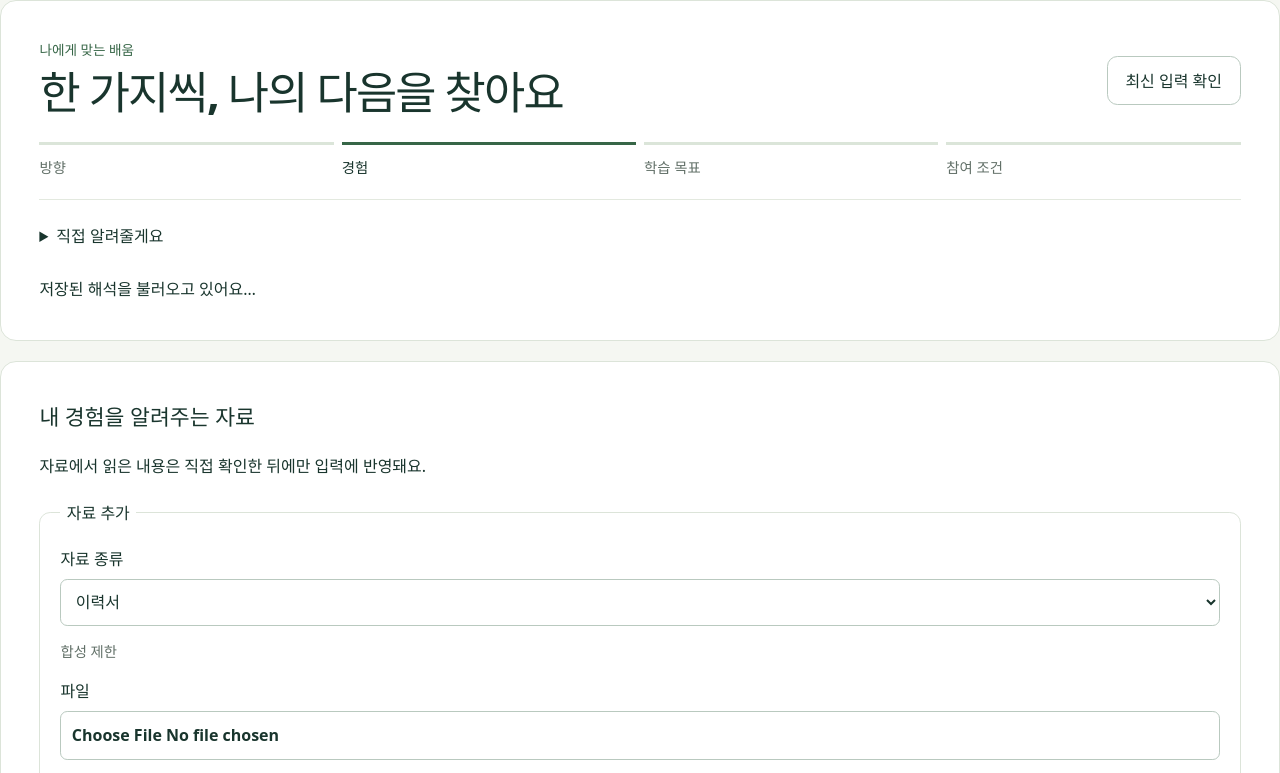
Test case: 해석 제안 확인과 수락·거절 › 새 해석 cancel 후 중단된 저장 해석을 GET으로 다시 불러온다
Click the heading "직접 알려줄게요". click: {"x": 110, "y": 236}
box: [56,225,164,247]
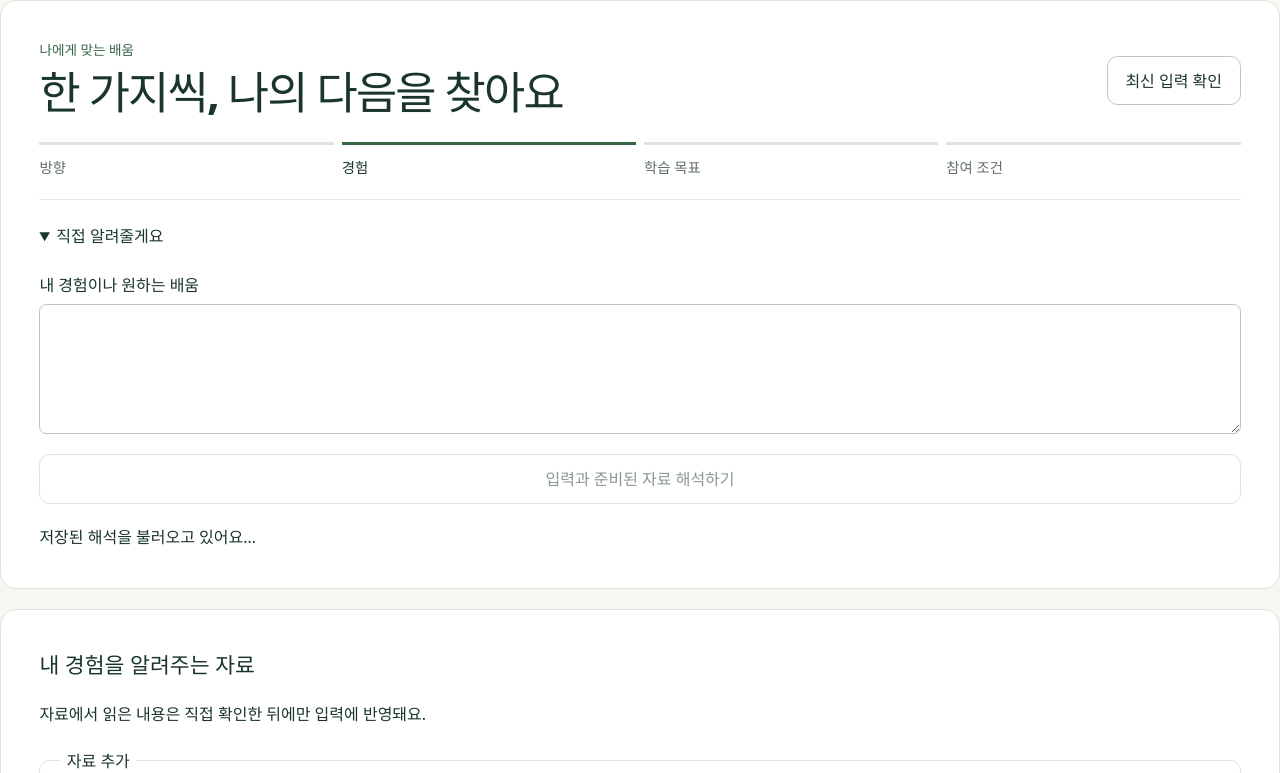
Type "보존할 새 문장" into the text box labelled "내 경험이나 원하는 배움". click: {"x": 640, "y": 369}
box: [39,304,1241,434]
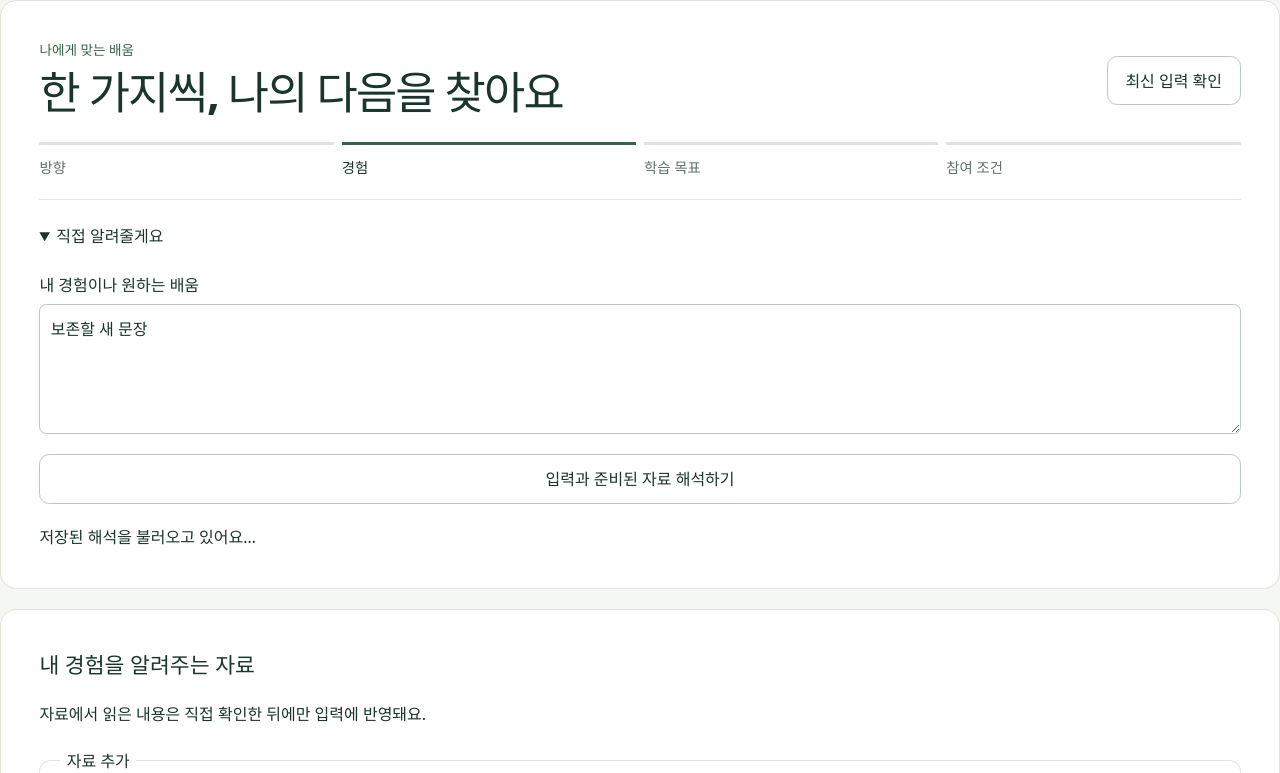
Click the button "입력과 준비된 자료 해석하기". click: {"x": 640, "y": 479}
box: [39,454,1241,504]
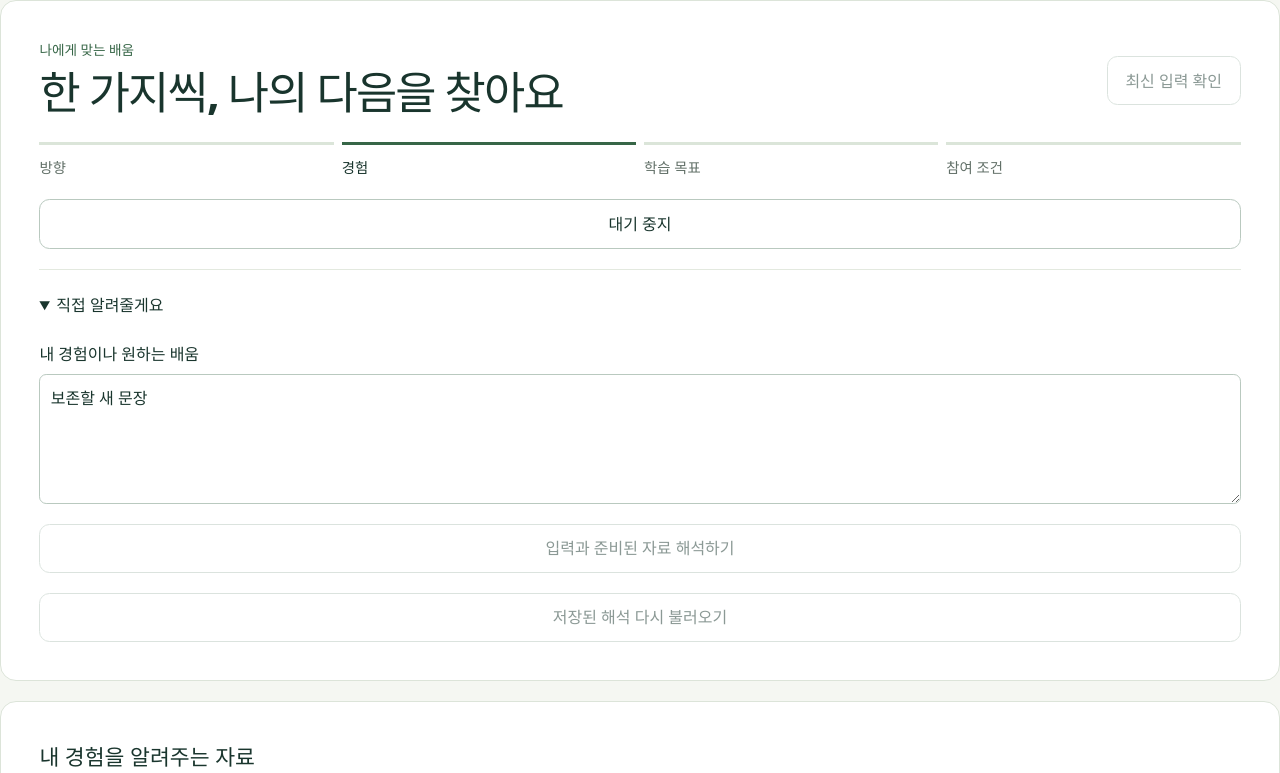
Click the button "대기 중지". click: {"x": 640, "y": 224}
box: [39,199,1241,249]
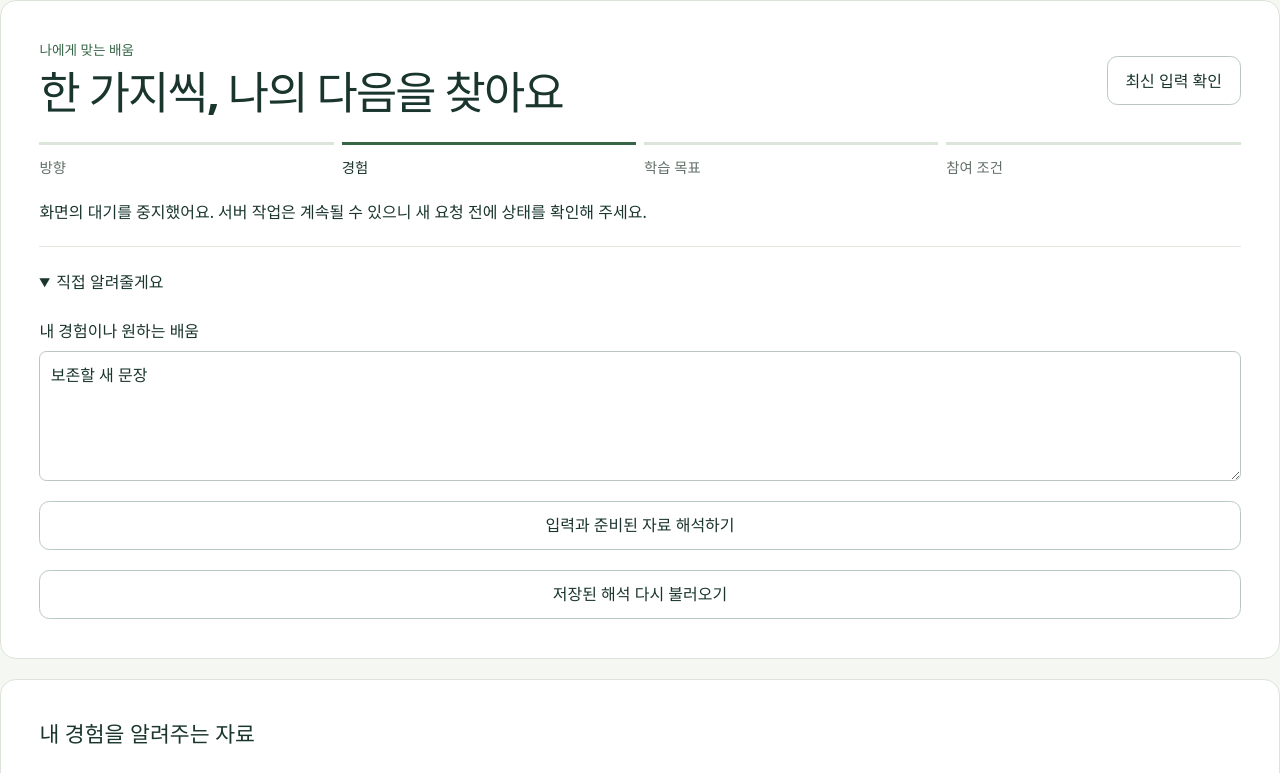
Expected: the button "저장된 해석 다시 불러오기" is enabled
Click the button "저장된 해석 다시 불러오기". click: {"x": 640, "y": 595}
box: [39,570,1241,619]
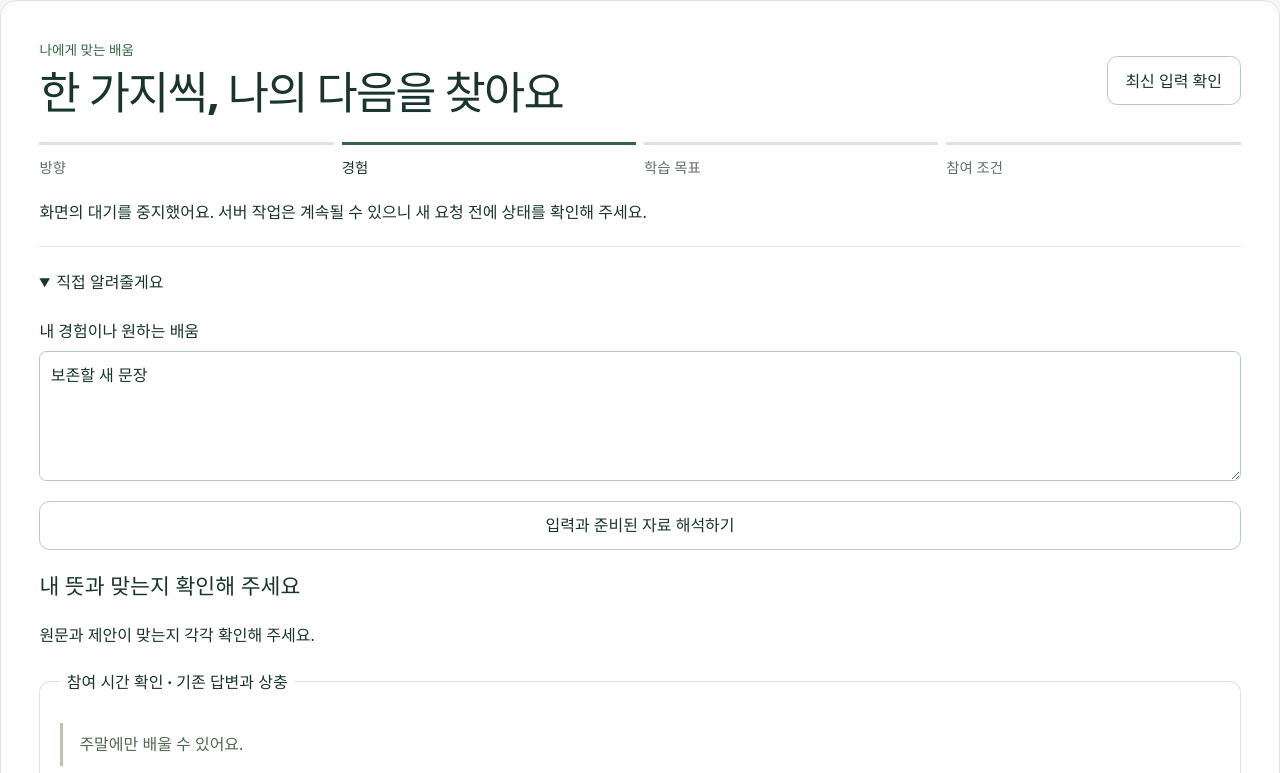
Expected: the text "원문과 제안이 맞는지 각각 확인해 주세요." is shown, [39,624,315,646]
